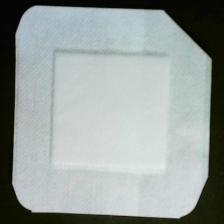Cut: (10, 6, 216, 221)
